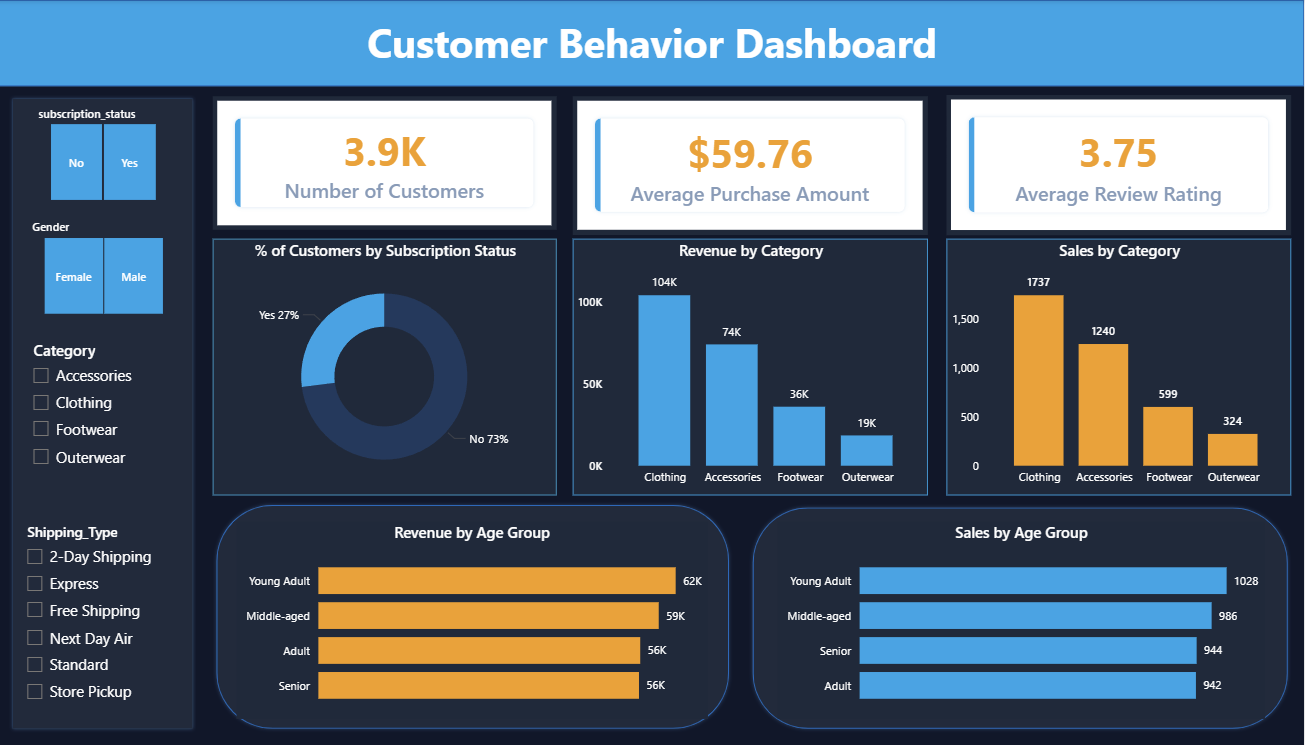

What the dashboard file says about the page in this screenshot:
{"tool":"powerbi","page":{"name":"Page 1","canvas":[1400,800],"ordinal":0},"visuals":[{"type":"cardVisual","fields":{"Data":["public Customer.Number of Customers"]},"box":[229.2,103.2,368.6,143.4],"z":0},{"type":"cardVisual","fields":{"Data":["public Customer.Average Purchase Amount"]},"box":[615.3,103.2,380.7,148.8],"z":1000},{"type":"cardVisual","fields":{"Data":["public Customer.Average Review Rating"]},"box":[1016.1,101.9,370,150.1],"z":2000},{"type":"donutChart","title":"% of Customers by Subscription Status","fields":{"Y":["CountNonNull(public Customer.customer_id)"],"Category":["public Customer.subscription_status"]},"box":[229.2,256,368.6,274.8],"z":4000},{"type":"columnChart","title":" Revenue by Category","fields":{"Category":["public Customer.category"],"Y":["Sum(public Customer.purchase_amount)"]},"box":[615.3,256,380.7,274.8],"z":5000},{"type":"columnChart","title":"Sales by Category","fields":{"Category":["public Customer.category"],"Y":["CountNonNull(public Customer.customer_id)"]},"box":[1016.1,256,370,274.8],"z":6000},{"type":"shape","box":[10.7,101.9,201.1,683.6],"z":8001},{"type":"slicer","fields":{"Values":["public Customer.subscription_status"]},"box":[29.5,108.6,162.2,112.6],"z":8002},{"type":"slicer","fields":{"Values":["public Customer.gender"]},"box":[22.8,230.6,176.9,112.6],"z":8003},{"type":"slicer","fields":{"Values":["public Customer.category"]},"box":[24.1,359.3,167.6,181],"z":8004},{"type":"slicer","fields":{"Values":["public Customer.shipping_type"]},"box":[17.4,555,174.3,213.1],"z":8005},{"type":"shape","box":[0,0,1399.5,92.5],"z":8006},{"type":"textbox","box":[211.8,10.7,977.2,72.4],"z":8007},{"type":"shape","box":[229.2,537.5,557.6,248],"z":8008},{"type":"shape","box":[804.3,540.2,581.8,245.3],"z":8009},{"type":"clusteredBarChart","title":"Revenue by  Age Group","fields":{"Y":["Sum(public Customer.purchase_amount)"],"Category":["public Customer.age_group"]},"box":[254.7,559,505.4,211.8],"z":8010},{"type":"clusteredBarChart","title":"Sales by Age Group","fields":{"Category":["public Customer.age_group"],"Y":["CountNonNull(public Customer.customer_id)"]},"box":[835.1,559,522.8,211.8],"z":8011}]}

Visuals, with their boxes in screenshot pixels (x1, y1, x2, y2), scaled from the page's 1400x800 canvas onto the 1305x745 screenshot:
cardVisual - public Customer.Number of Customers: detection(214, 96, 557, 230)
cardVisual - public Customer.Average Purchase Amount: detection(574, 96, 928, 235)
cardVisual - public Customer.Average Review Rating: detection(947, 95, 1292, 235)
"% of Customers by Subscription Status" donutChart: detection(214, 238, 557, 494)
" Revenue by Category" columnChart: detection(574, 238, 928, 494)
"Sales by Category" columnChart: detection(947, 238, 1292, 494)
shape: detection(10, 95, 197, 731)
slicer - public Customer.subscription_status: detection(27, 101, 179, 206)
slicer - public Customer.gender: detection(21, 215, 186, 320)
slicer - public Customer.category: detection(22, 335, 179, 503)
slicer - public Customer.shipping_type: detection(16, 517, 179, 715)
shape: detection(0, 0, 1304, 86)
textbox: detection(197, 10, 1108, 77)
shape: detection(214, 501, 733, 731)
shape: detection(750, 503, 1292, 731)
"Revenue by  Age Group" clusteredBarChart: detection(237, 521, 709, 718)
"Sales by Age Group" clusteredBarChart: detection(778, 521, 1266, 718)
